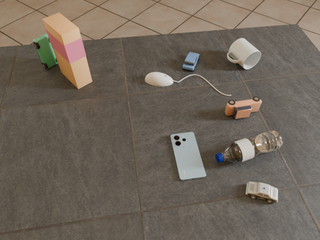bottle: (215, 130, 283, 163)
box: (43, 13, 92, 89)
cup: (227, 38, 261, 69)
mouse: (145, 72, 173, 86)
phone: (171, 132, 206, 180)
toy_car: (33, 34, 58, 69), (225, 97, 262, 119), (246, 182, 278, 203), (182, 52, 200, 71)
